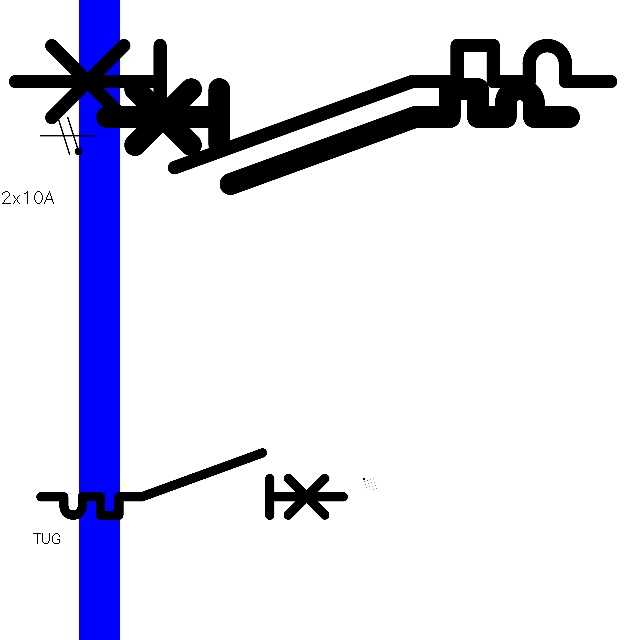interruptor_termomagnetico: (0, 30, 626, 183), (95, 77, 581, 196), (33, 445, 350, 523)
